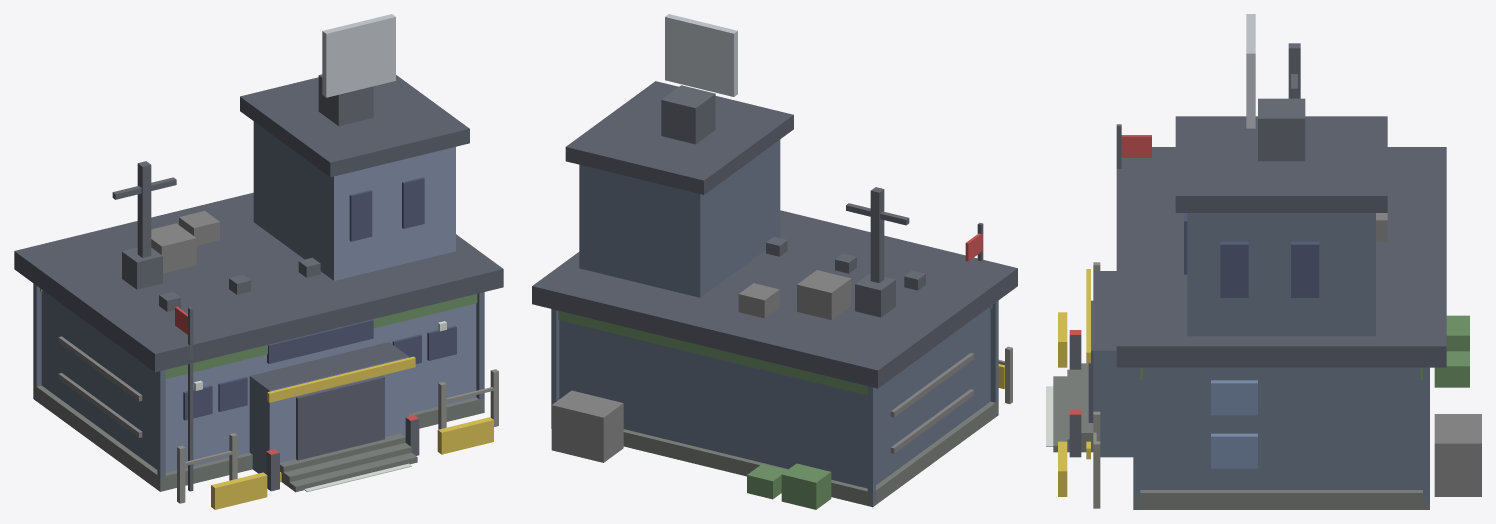
Rendered from OperationCrossroads.fbx.
3 renders of one model, left to right at view 1: azimuth 30°, elevation 25°; view 2: azimuth 150°, elevation 25°; view 3: azimuth 270°, elevation 25°, orthographic. The views are drawn at different scales.
Parts seen in each view (by area): view 1: OperationCrossroads; view 2: OperationCrossroads; view 3: OperationCrossroads.
Part boxes in pixels (x1,y1,x2,y2): OperationCrossroads: [14, 14, 503, 509]; OperationCrossroads: [532, 14, 1017, 509]; OperationCrossroads: [1046, 14, 1481, 509].
Size of the model in its own units: 2000 by 2030 by 1850.
